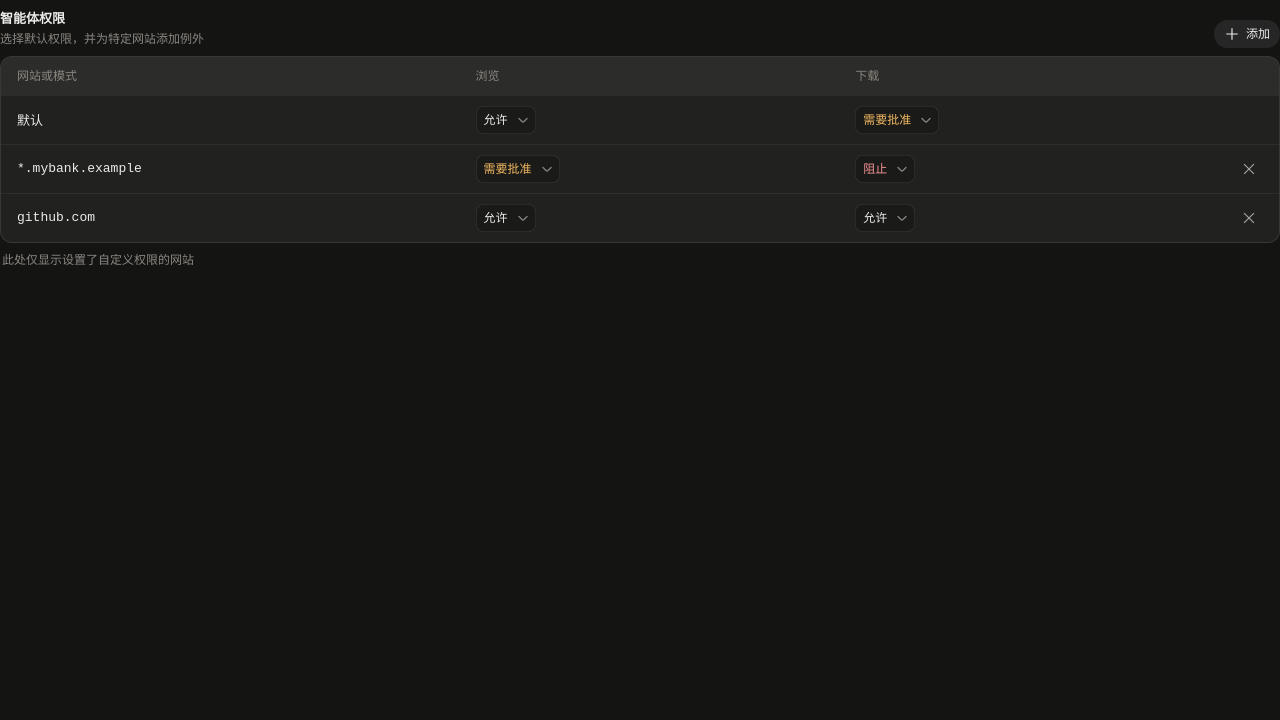
Test case: 智能体权限 › keeps the dialog open and says what is wrong with a pattern
Click the button "添加": (1247, 34) [1214,20,1279,48]
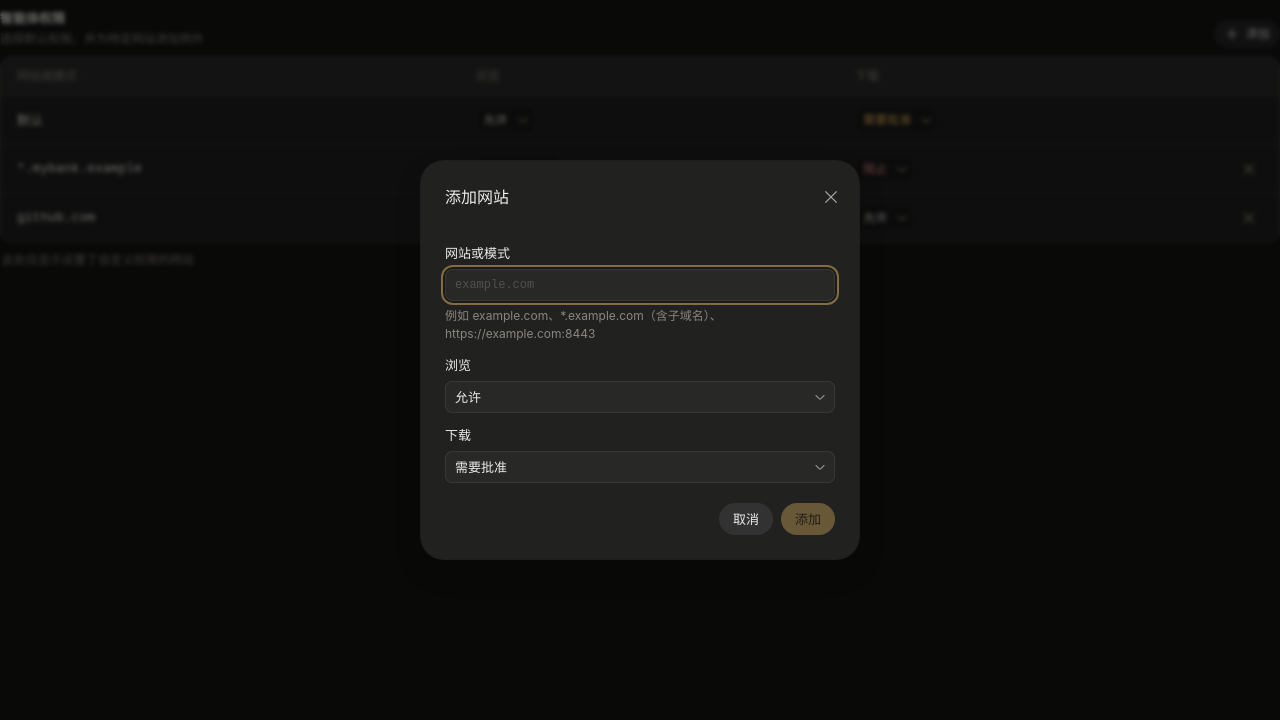
In the field labelled "网站或模式": (640, 285) [455,269,825,301], type "example.com/path"
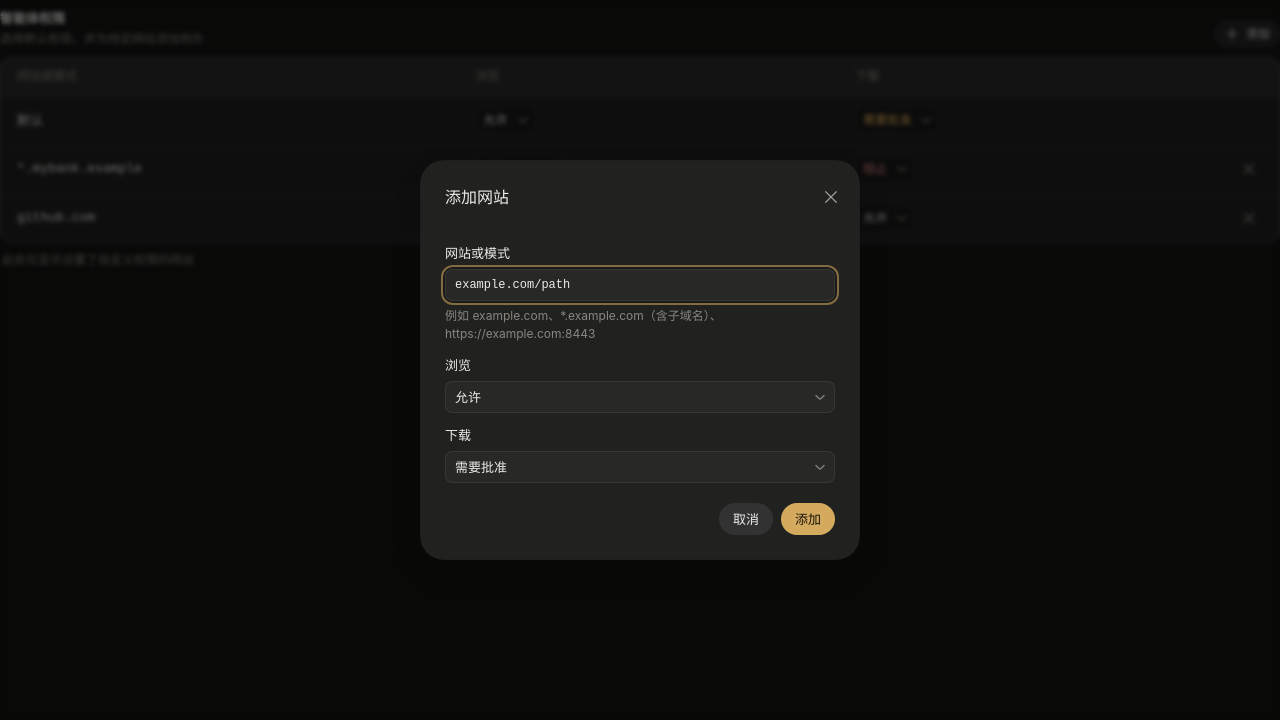
Submit the form, box [445,243,835,483]
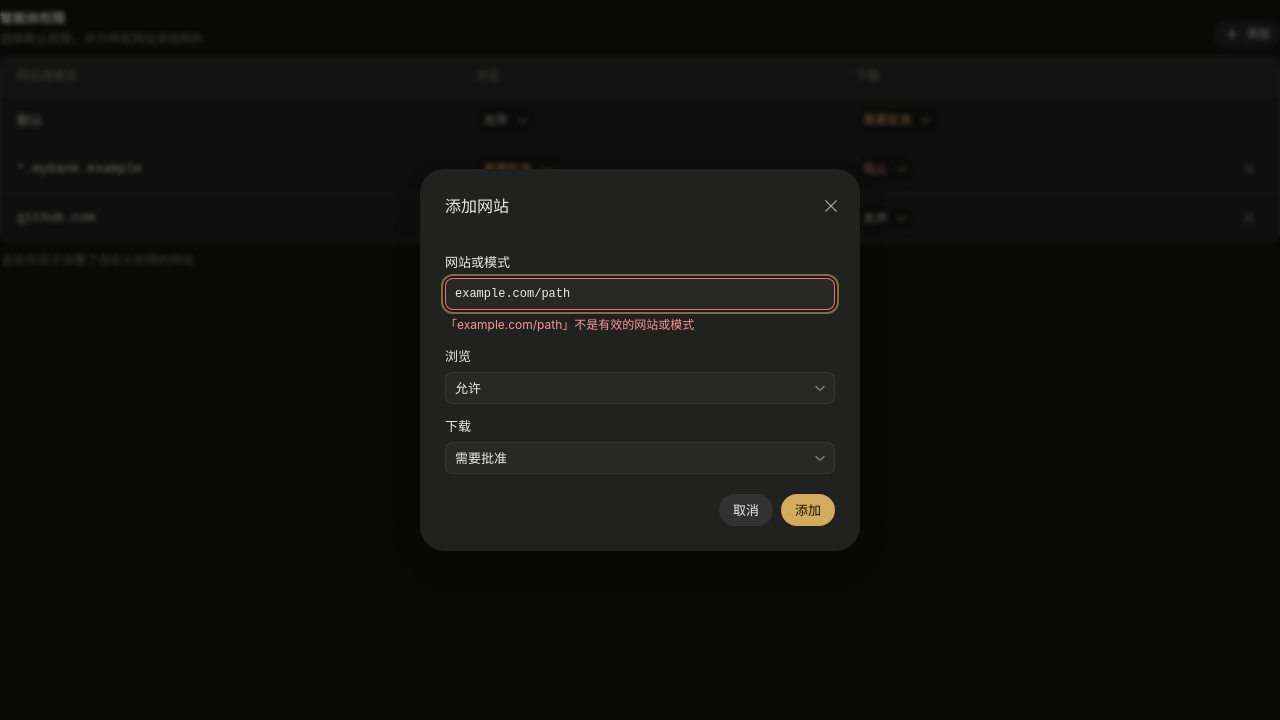
Expected: the dialog is shown, [420,169,860,551]
Expected: the dialog shows "不是有效的网站或模式", [445,317,694,332]
